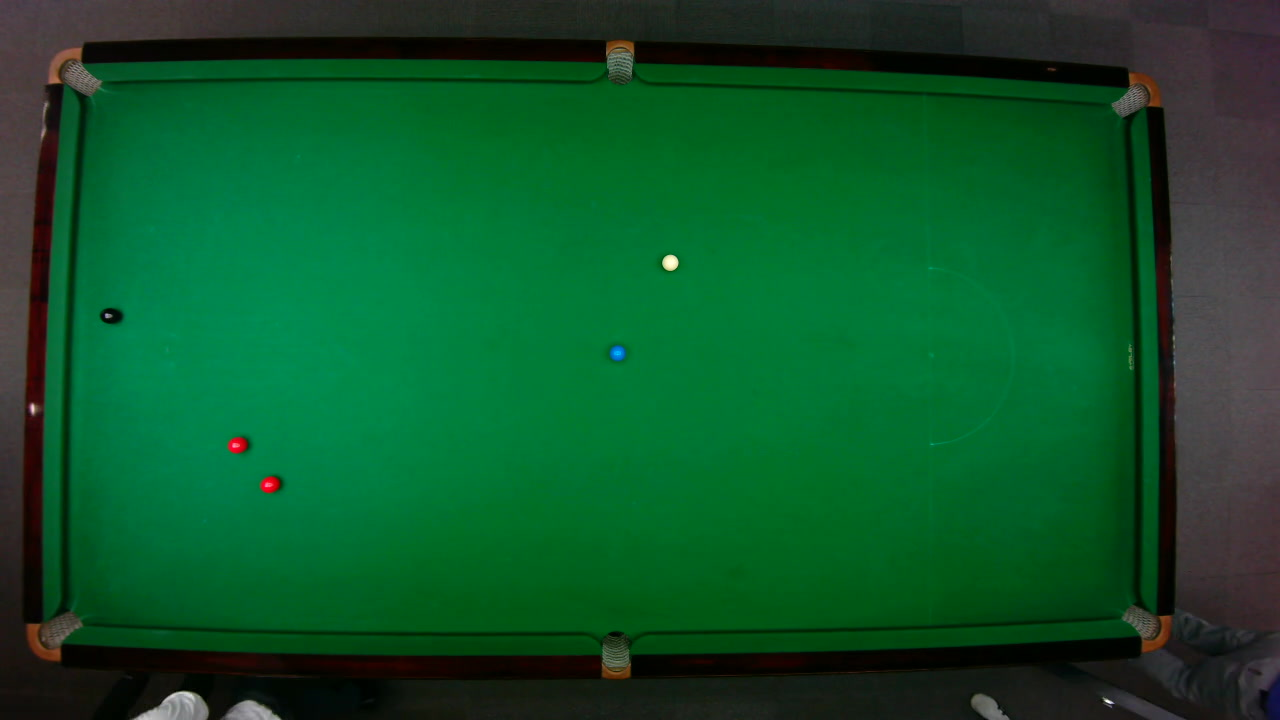bag: (25, 609, 83, 661), (45, 46, 101, 96), (1119, 603, 1172, 652), (1108, 71, 1161, 118), (600, 629, 630, 680), (605, 38, 633, 85)
black: (98, 306, 120, 324)
blue: (608, 344, 625, 361)
red: (225, 435, 248, 454), (258, 474, 280, 493)
white: (660, 253, 679, 271)
zone: (927, 266, 1013, 445)
